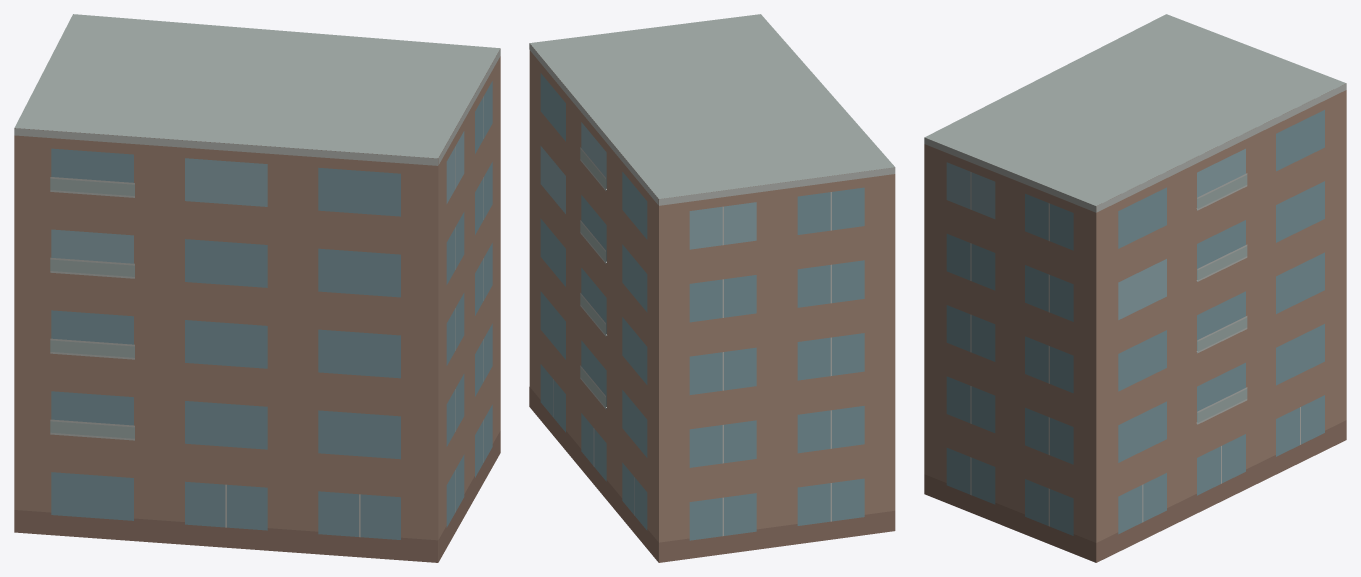
The model's file is survey-upis-32892756.glb.
3 renders of one model, left to right at view 1: azimuth 30°, elevation 25°; view 2: azimuth 150°, elevation 25°; view 3: azimuth 270°, elevation 25°, orthographic. The views are drawn at different scales.
Parts seen in each view (by area): view 1: survey-upis-32892756.tmp; view 2: survey-upis-32892756.tmp; view 3: survey-upis-32892756.tmp.
Part boxes in pixels (x1,y1,x2,y2): survey-upis-32892756.tmp: [14, 14, 500, 562]; survey-upis-32892756.tmp: [529, 14, 895, 562]; survey-upis-32892756.tmp: [924, 14, 1346, 562].
Size of the model in its own units: 15.26 by 13.2 by 14.16.
